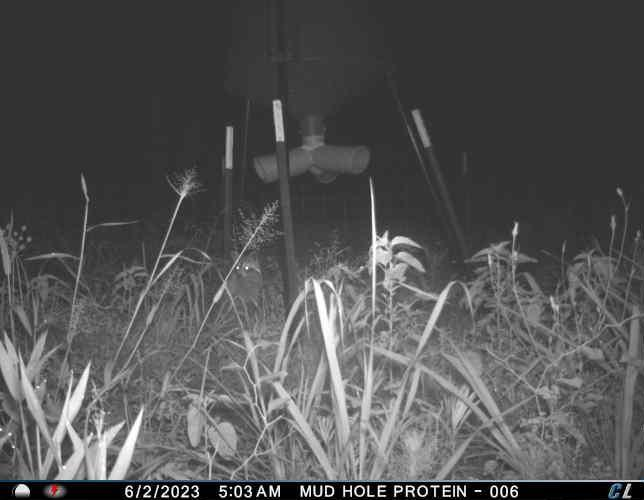Raccoon: (224, 246, 265, 310)
